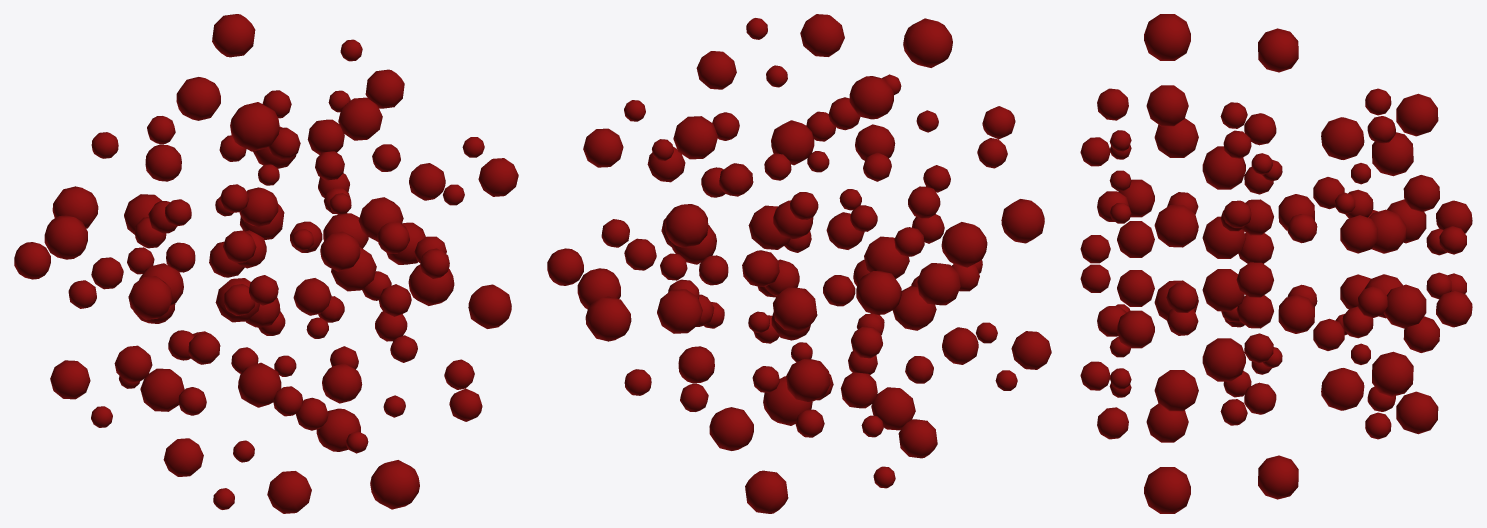
File: blood.FBX
3 views of the same model, side by side, from view 1: azimuth 30°, elevation 25°; view 2: azimuth 150°, elevation 25°; view 3: azimuth 270°, elevation 25° (orthographic).
Visible parts, largest first — view 1: Sphere001; view 2: Sphere001; view 3: Sphere001.
Part boxes in pixels (x1=…): Sphere001: x1=14, y1=14, x2=518, y2=513; Sphere001: x1=547, y1=14, x2=1051, y2=513; Sphere001: x1=1080, y1=14, x2=1472, y2=513.
Bounding box in the file's own units: 0.7537 × 0.8269 × 0.6893.
Materials: 1 (1 with a texture image).
